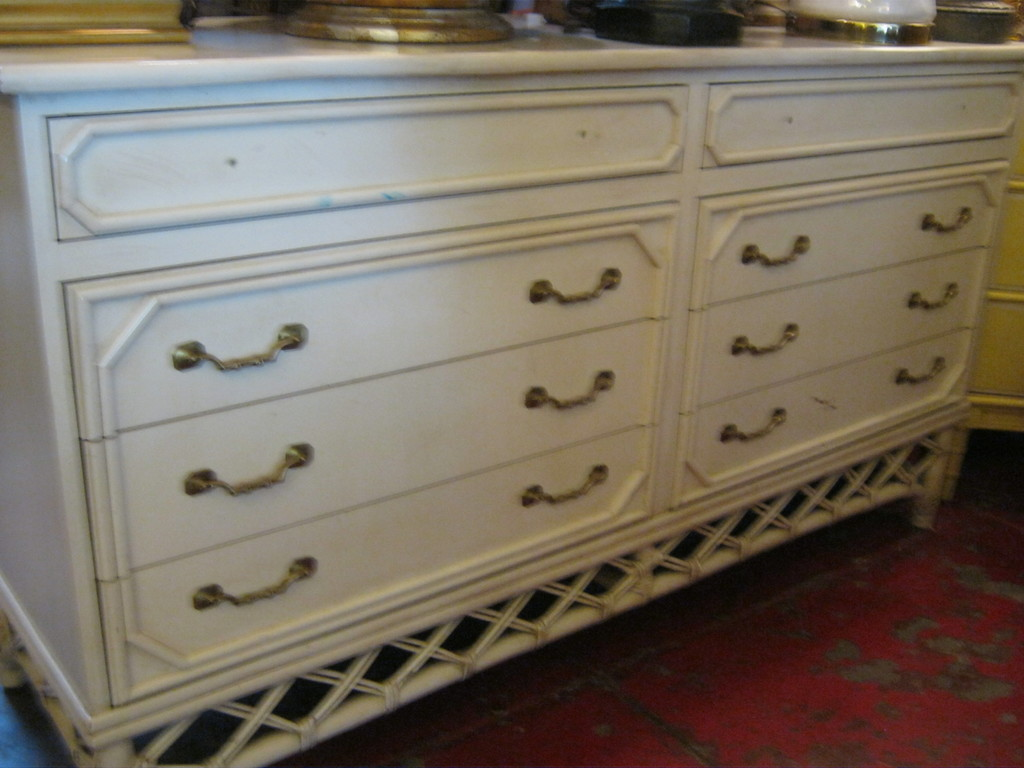cabinet door: (81, 236, 664, 374), (99, 342, 662, 459), (109, 477, 662, 596), (707, 350, 952, 447), (715, 273, 982, 354), (711, 202, 1021, 271)
handle: (162, 300, 311, 374), (194, 559, 316, 617), (190, 449, 322, 501), (530, 265, 628, 315), (519, 457, 609, 509), (527, 379, 616, 428), (738, 230, 814, 274), (721, 319, 808, 354), (722, 409, 793, 445), (898, 282, 961, 318), (891, 353, 943, 394), (916, 208, 977, 240)
